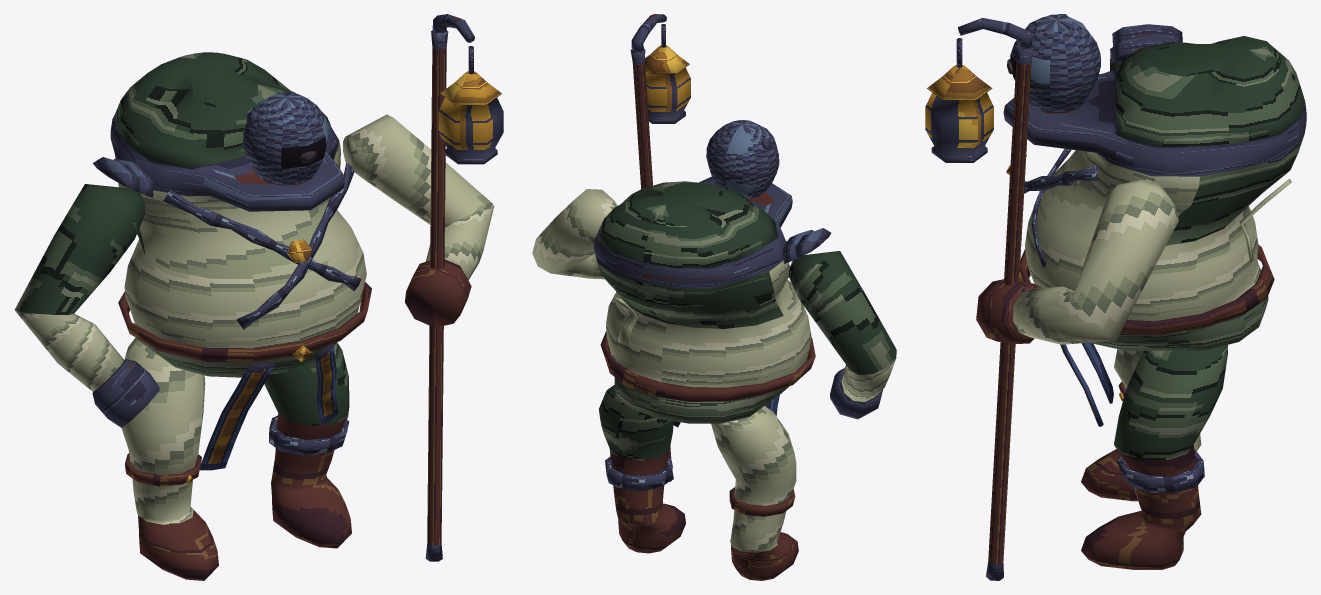
The model's file is gruftwaechter_H1.glb.
The picture shows the model from 3 angles, left to right: view 1: azimuth 30°, elevation 25°; view 2: azimuth 150°, elevation 25°; view 3: azimuth 270°, elevation 25°; orthographic projection. The views are drawn at different scales.
Visible parts, largest first — view 1: torso, arm_l, gear, leg_l, arm_r, pole, leg_r, head; view 2: torso, arm_l, leg_l, leg_r, gear, pole, arm_r, head; view 3: torso, leg_r, arm_r, pole, gear, head, leg_l, arm_l.
Boxes of the visible parts, x1=… form: torso: x1=110, y1=52, x2=366, y2=377; arm_l: x1=14, y1=157, x2=159, y2=427; gear: x1=118, y1=110, x2=371, y2=486; leg_l: x1=121, y1=337, x2=218, y2=580; arm_r: x1=343, y1=114, x2=494, y2=327; pole: x1=425, y1=14, x2=503, y2=561; leg_r: x1=264, y1=342, x2=351, y2=548; head: x1=243, y1=92, x2=328, y2=185; torso: x1=594, y1=176, x2=811, y2=423; arm_l: x1=782, y1=228, x2=896, y2=419; leg_l: x1=711, y1=406, x2=798, y2=580; leg_r: x1=598, y1=385, x2=685, y2=553; gear: x1=600, y1=138, x2=815, y2=516; pole: x1=630, y1=14, x2=690, y2=481; arm_r: x1=532, y1=189, x2=617, y2=279; head: x1=706, y1=120, x2=779, y2=198; torso: x1=1003, y1=36, x2=1306, y2=350; leg_r: x1=1081, y1=345, x2=1227, y2=569; arm_r: x1=976, y1=178, x2=1178, y2=344; pole: x1=925, y1=18, x2=1033, y2=580; gear: x1=1006, y1=14, x2=1291, y2=492; head: x1=1010, y1=14, x2=1100, y2=112; leg_l: x1=1081, y1=349, x2=1201, y2=501; arm_l: x1=1110, y1=24, x2=1182, y2=70.
Size of the model in its own units: 2.16 by 2.52 by 1.5.
1 material, 1 textured.
